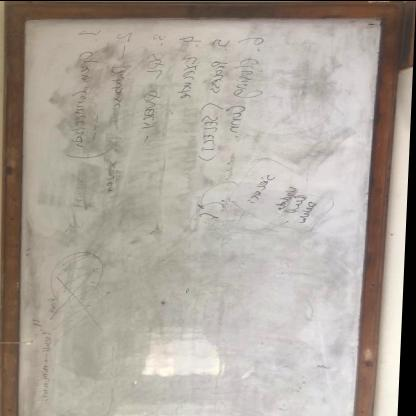Handwritten text: (64, 45, 101, 155), (227, 50, 268, 149), (198, 59, 228, 161), (133, 47, 168, 131), (175, 51, 201, 107), (104, 60, 133, 108)
Whiteboard: (0, 16, 379, 416)
